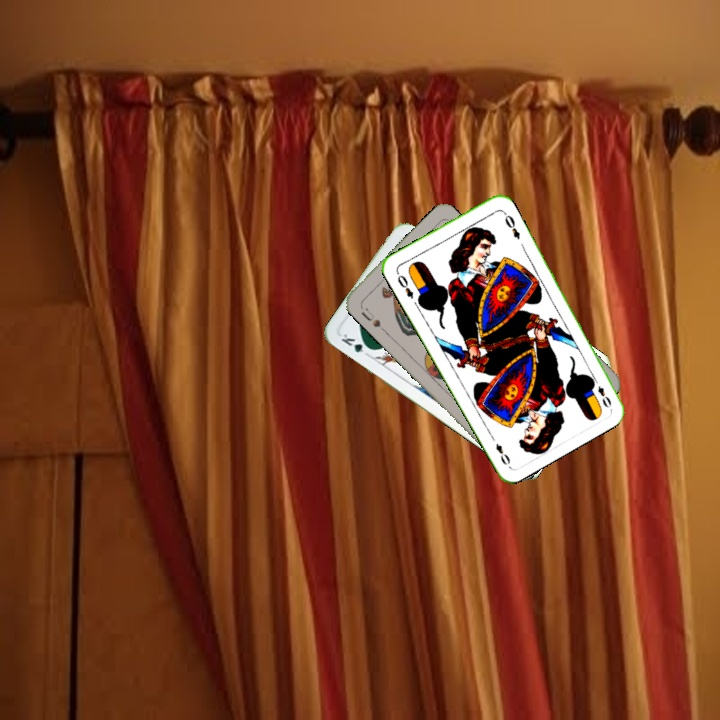EO: (393, 271, 416, 301), (594, 382, 614, 411)
GK: (337, 329, 375, 355)
SU: (356, 301, 383, 330)
